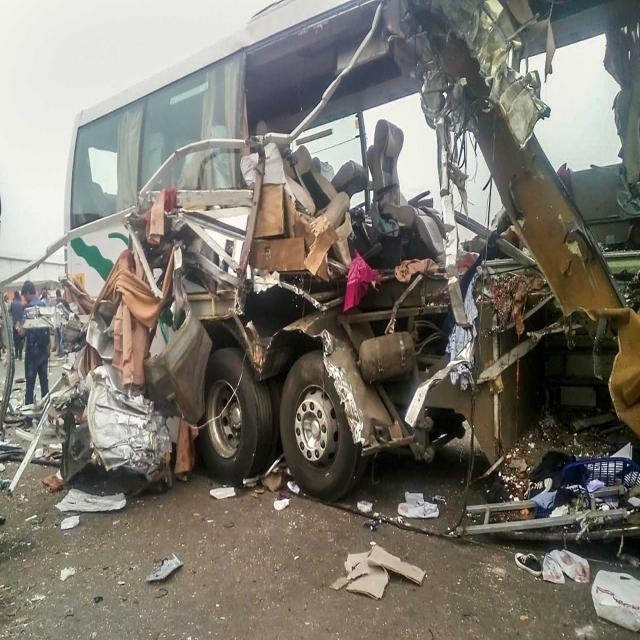accident: (18, 0, 640, 547)
